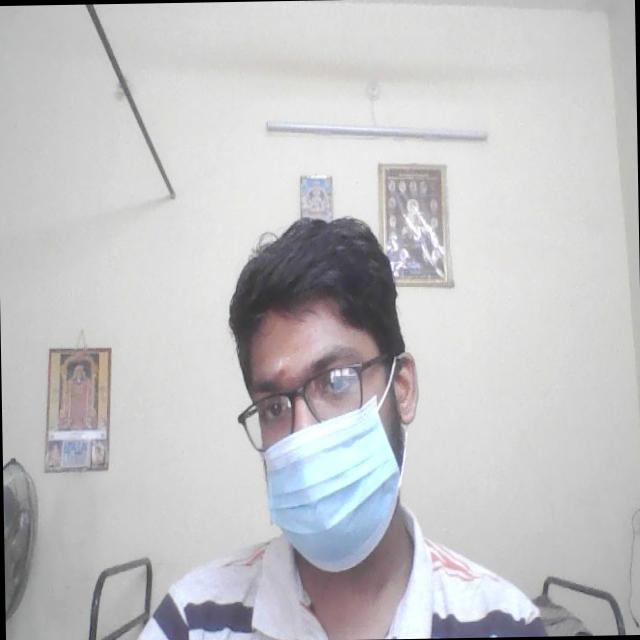Focused: (222, 293, 412, 549)
